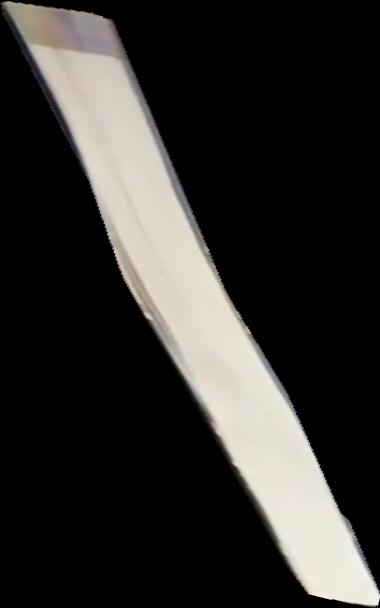backward: (1, 1, 380, 608)
